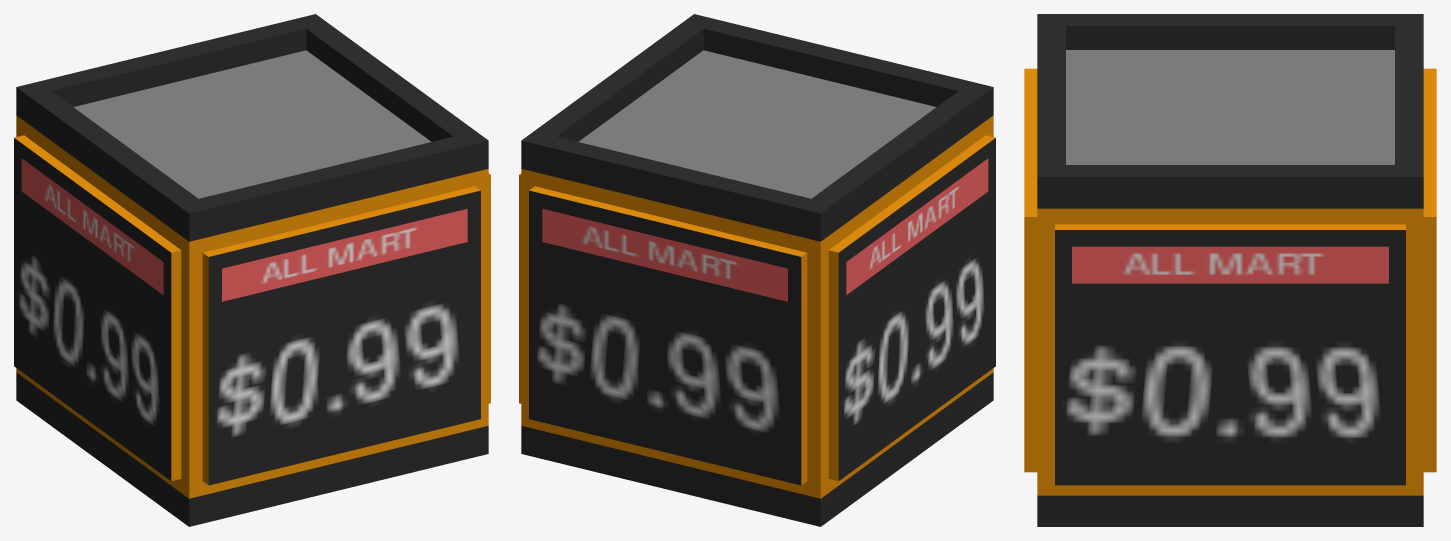
The model's file is ProduceBox.fbx.
3 renders of one model, left to right at view 1: azimuth 30°, elevation 25°; view 2: azimuth 150°, elevation 25°; view 3: azimuth 270°, elevation 25°, orthographic. The views are drawn at different scales.
Visible parts, largest first — view 1: ProduceBox; view 2: ProduceBox; view 3: ProduceBox.
Boxes of the visible parts, x1=… form: ProduceBox: x1=14, y1=14, x2=490, y2=526; ProduceBox: x1=519, y1=14, x2=995, y2=526; ProduceBox: x1=1024, y1=14, x2=1436, y2=526.
Bounding box in the file's own units: 85.42 × 80 × 85.42.
